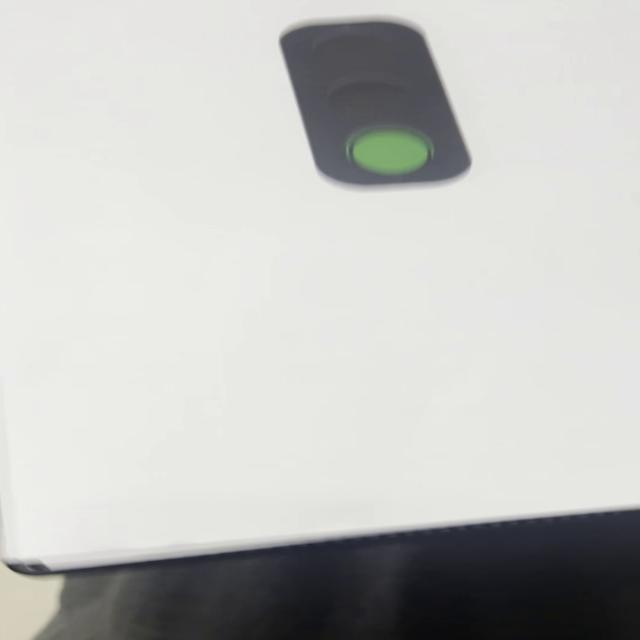green: (280, 18, 475, 195)
